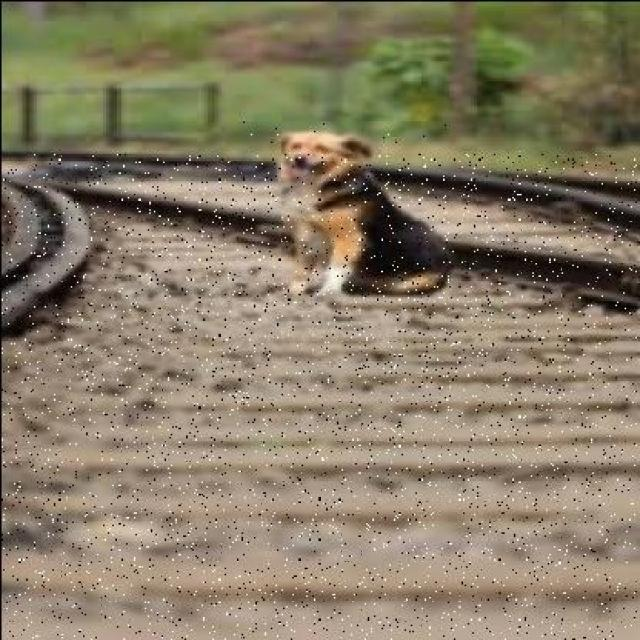danger: (234, 120, 452, 302)
rail: (0, 152, 635, 639)
